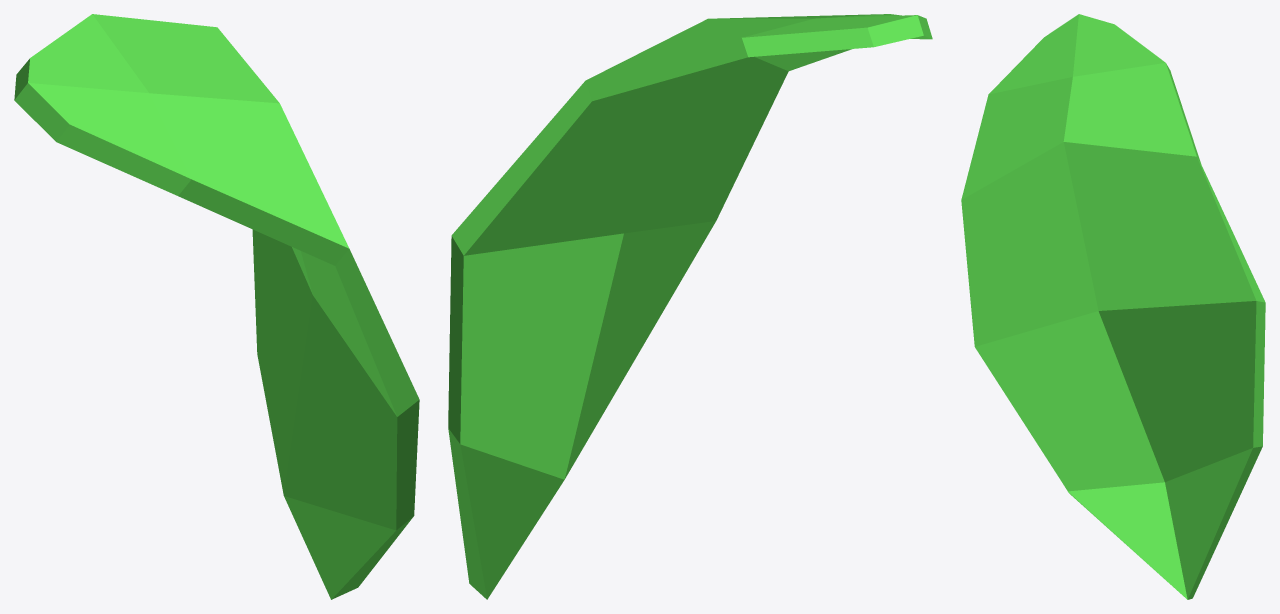
The model's file is Pettle.fbx.
The picture shows the model from 3 angles, left to right: view 1: azimuth 30°, elevation 25°; view 2: azimuth 150°, elevation 25°; view 3: azimuth 270°, elevation 25°; orthographic projection. The views are drawn at different scales.
Parts seen in each view (by area): view 1: Cube.003; view 2: Cube.003; view 3: Cube.003.
Boxes of the visible parts, x1,y1,x2,y2 form: Cube.003: (14, 14, 419, 599); Cube.003: (448, 14, 932, 599); Cube.003: (961, 14, 1265, 599).
Size of the model in its own units: 55.22 by 84.43 by 51.02.
